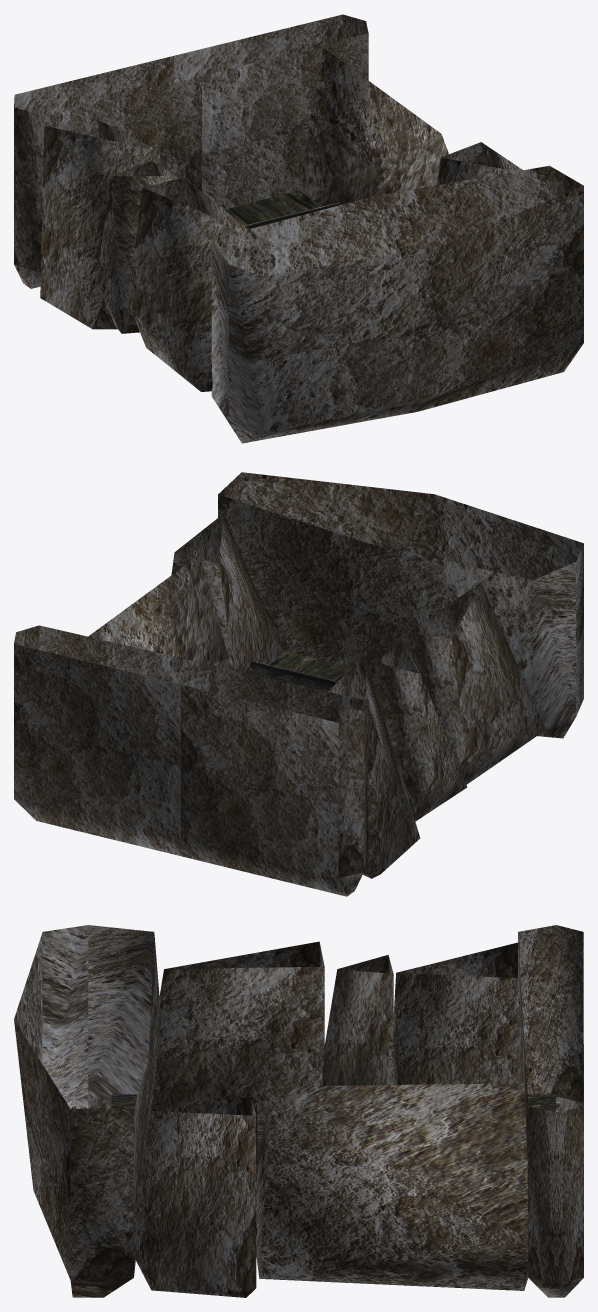
File: ex_nord_win_01.obj
3 views of the same model, one above another, from view 1: azimuth 30°, elevation 25°; view 2: azimuth 150°, elevation 25°; view 3: azimuth 270°, elevation 25° (orthographic). The views are drawn at different scales.
Visible parts, largest first — view 1: Tri Ex_nord_win_01 2, Tri Ex_nord_win_01 0; view 2: Tri Ex_nord_win_01 2, Tri Ex_nord_win_01 0, Tri Ex_nord_win_01 1; view 3: Tri Ex_nord_win_01 2, Tri Ex_nord_win_01 0.
Boxes of the visible parts, box(x1,y1,x2,y2) form: Tri Ex_nord_win_01 2: box(14, 14, 583, 443); Tri Ex_nord_win_01 0: box(224, 190, 321, 225); Tri Ex_nord_win_01 2: box(14, 472, 583, 896); Tri Ex_nord_win_01 0: box(268, 649, 374, 681); Tri Ex_nord_win_01 1: box(246, 660, 337, 691); Tri Ex_nord_win_01 2: box(14, 925, 583, 1297); Tri Ex_nord_win_01 0: box(111, 1094, 555, 1159).
Size of the model in its own units: 75.17 by 37.23 by 96.46.
4 materials, 4 textured.
